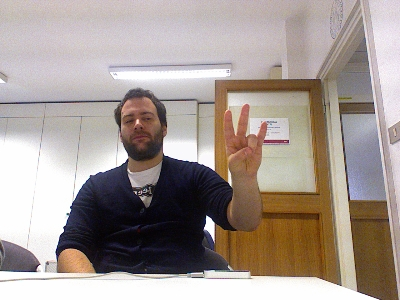观音: (221, 101, 269, 178)
